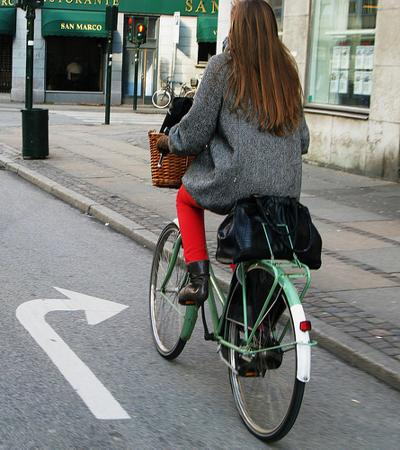person: (152, 3, 313, 362)
